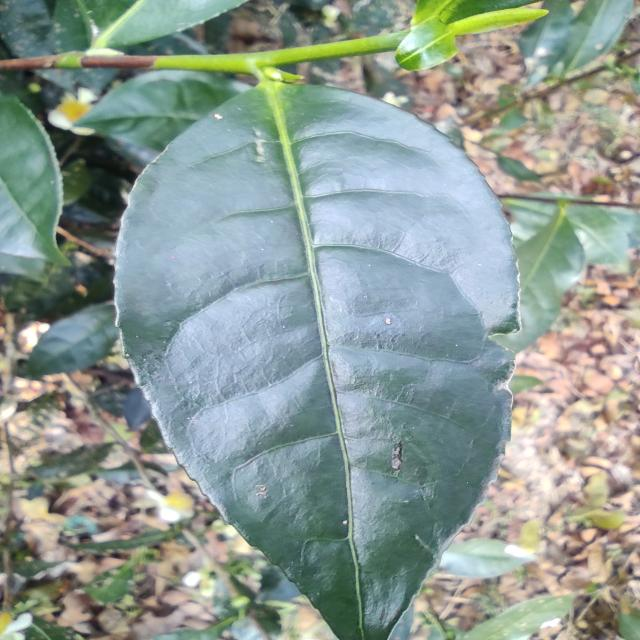Category D(7+ days, Not for Tea): (99, 73, 541, 640)
